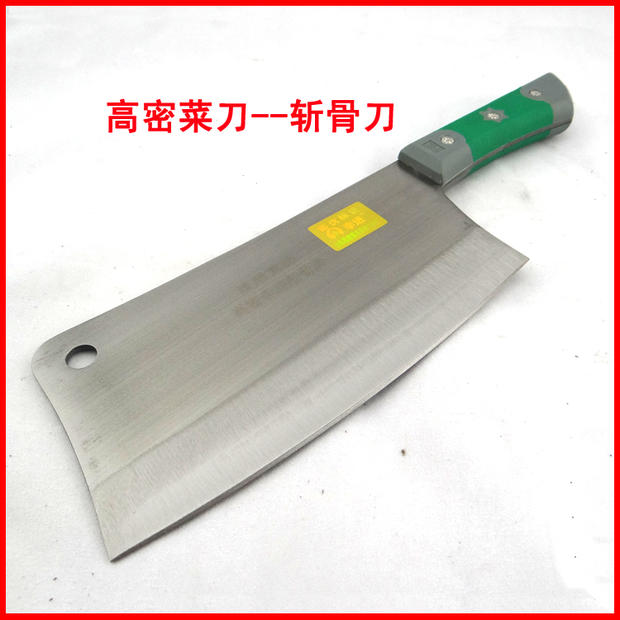knief: (64, 134, 535, 568)
